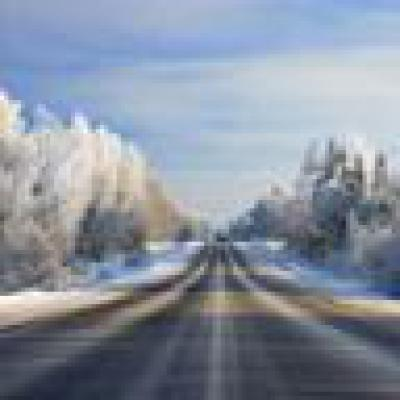iced-road: (0, 250, 400, 400)
